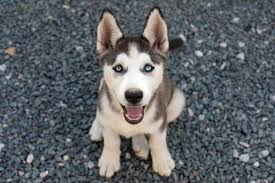Siberian Husky: (72, 1, 201, 178)
